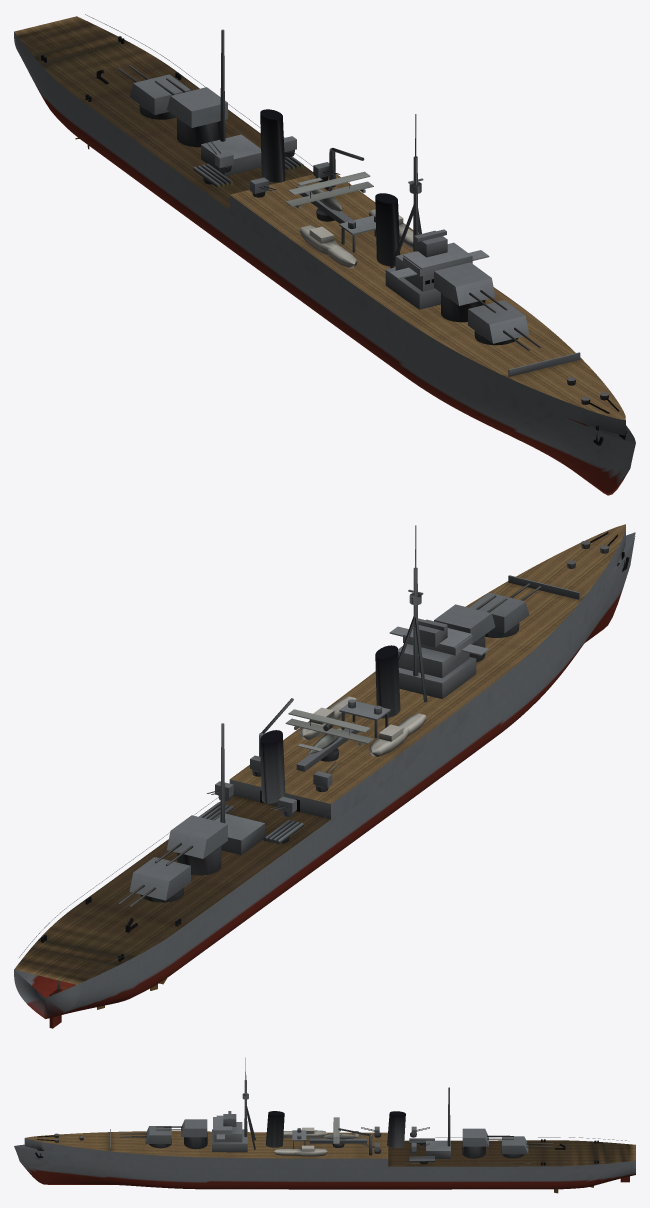
The model's file is model_built.glb.
The picture shows the model from 3 angles, top to bottom: view 1: azimuth 30°, elevation 25°; view 2: azimuth 150°, elevation 25°; view 3: azimuth 270°, elevation 25°; orthographic projection. The views are drawn at different scales.
Visible parts, largest first — view 1: main; view 2: main; view 3: main.
Boxes of the visible parts, bbox=[...] form: main: bbox=[14, 14, 635, 495]; main: bbox=[14, 524, 635, 1028]; main: bbox=[14, 1057, 635, 1193].
Bounding box in the file's own units: 17.3 × 39.37 × 174.
2 materials, 2 textured.
